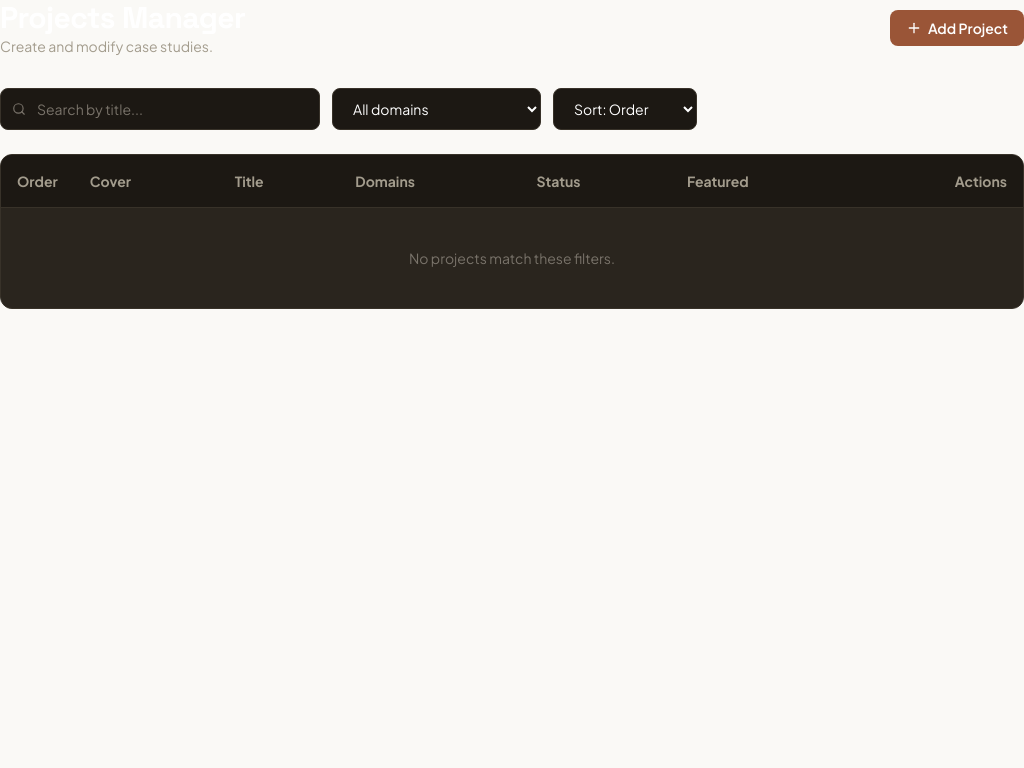
Test: Admin ProjectsManager form › opens the add-project modal with all core fields
Click the button "Add Project".
click(957, 28)  # box [890,10,1023,46]
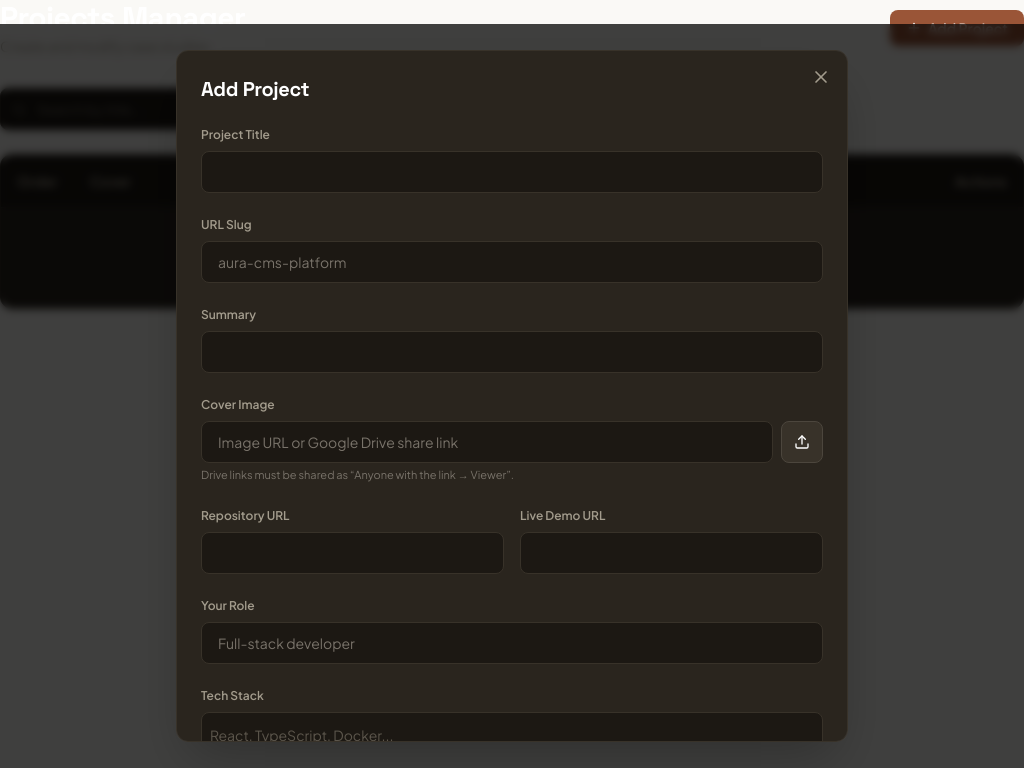
Now the field labelled "Project Title" is shown, box [201,151,823,193]
Now the field labelled "URL Slug" is shown, box [201,241,823,283]
Now the field labelled "Summary" is shown, box [201,331,823,373]
